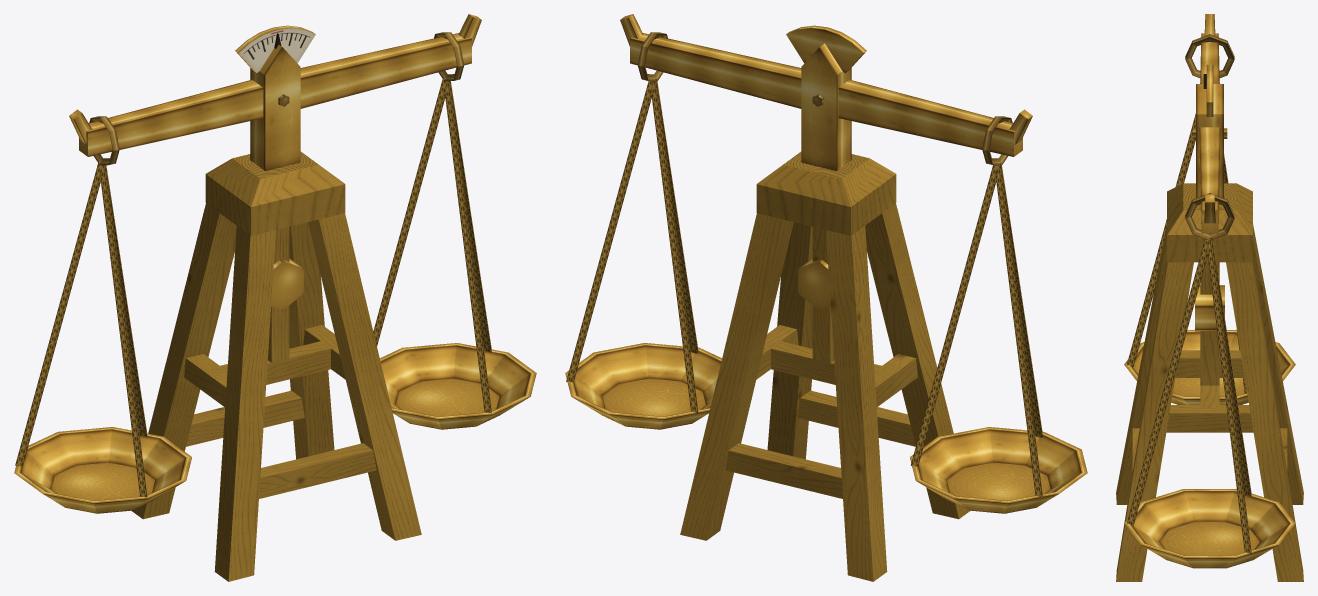
Rendered from FMS_Stall_Scale.fbx.
3 renders of one model, left to right at view 1: azimuth 30°, elevation 25°; view 2: azimuth 150°, elevation 25°; view 3: azimuth 270°, elevation 25°, orthographic. The views are drawn at different scales.
Visible parts, largest first — view 1: item_stalls_scale; view 2: item_stalls_scale; view 3: item_stalls_scale.
Boxes of the visible parts, x1,y1,x2,y2 form: item_stalls_scale: (14,14,536,581); item_stalls_scale: (565,14,1087,581); item_stalls_scale: (1116,14,1303,581).
Size of the model in its own units: 0.5022 by 0.479 by 0.175.
Materials: 1 (1 with a texture image).
